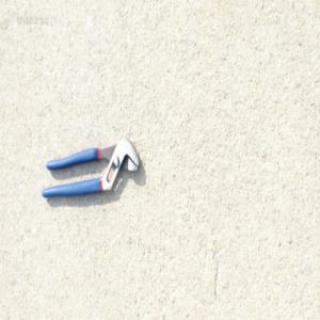Pliertrack_idkeyframe: (39, 134, 141, 200)
